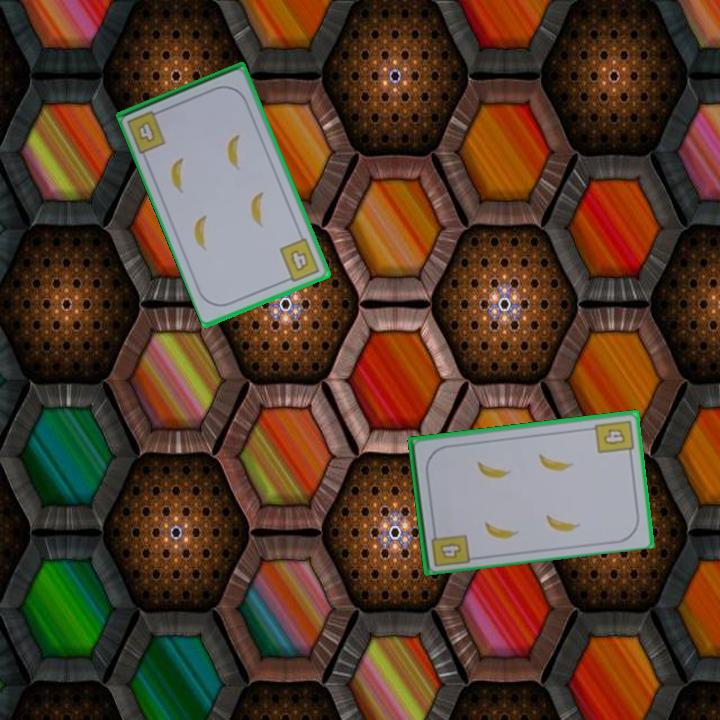4b: (276, 234, 323, 285), (123, 106, 169, 156), (427, 524, 472, 569), (591, 416, 636, 459)
